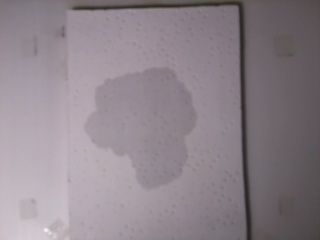Water_detected: (104, 81, 187, 178)
